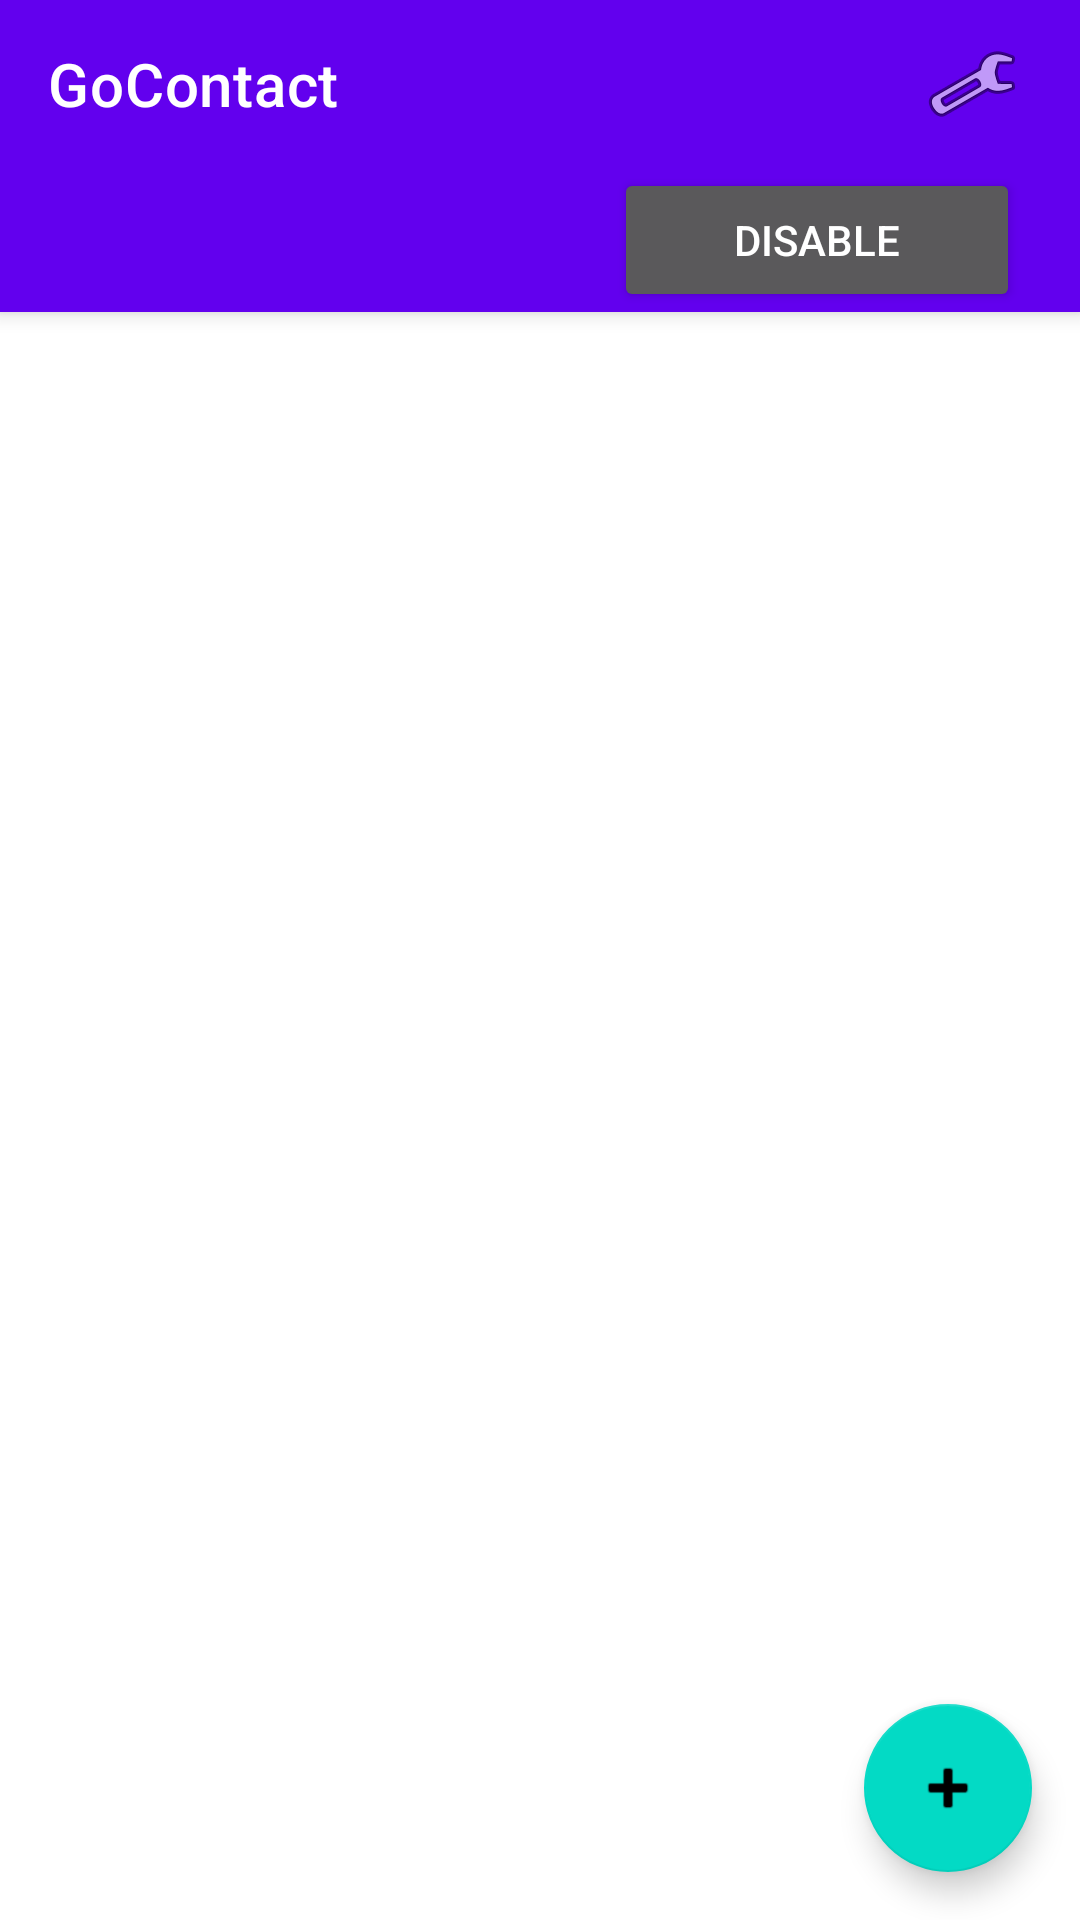

Icons on this 1080×1920 Android screen, each with the point to tap as (x=x, y=y):
Preferences: (x=972, y=84)
